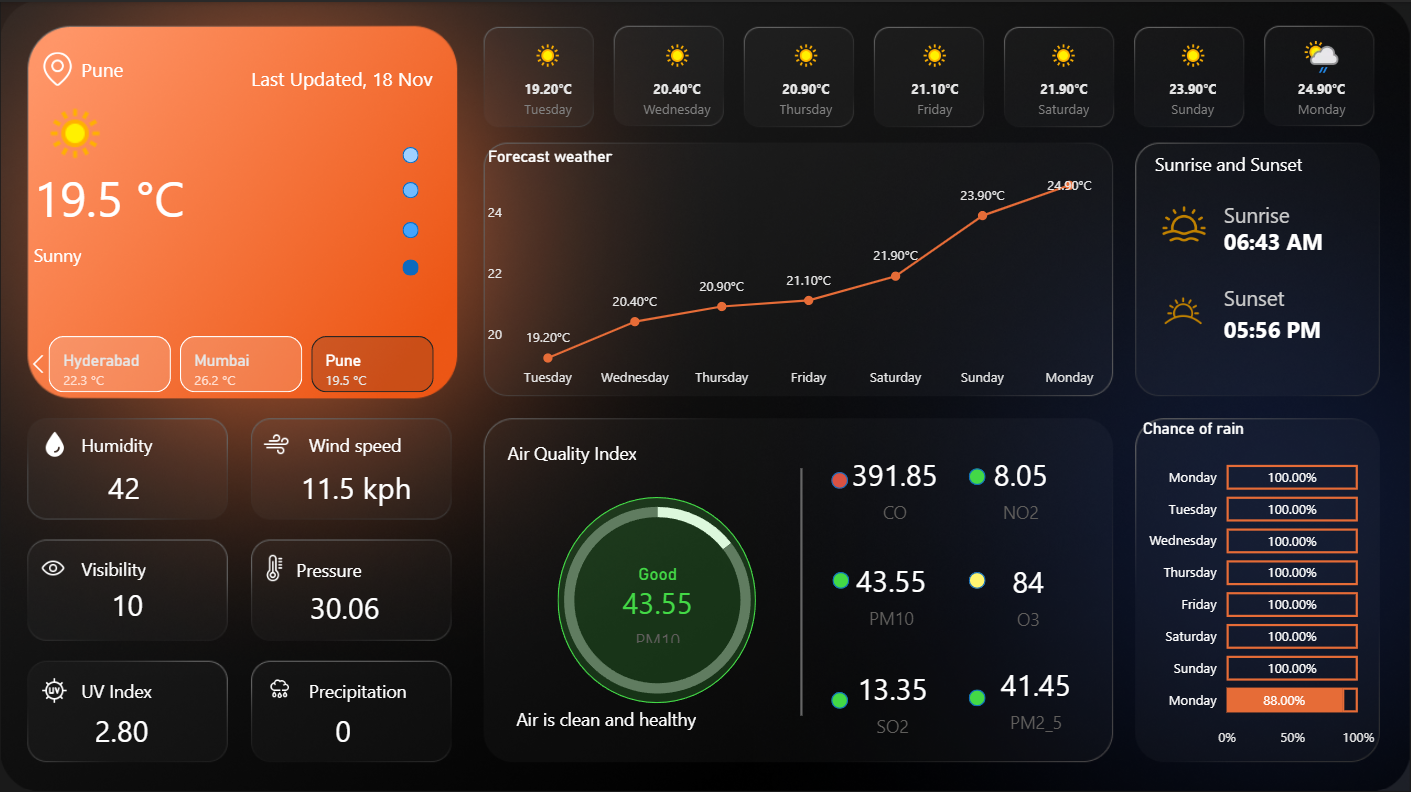

This screenshot's page, from the dashboard's own definition file:
{"tool":"powerbi","page":{"name":"Page 1","canvas":[1280,720],"ordinal":0},"visuals":[{"type":"donutChart","fields":{"Y":["Sum(Current.current.air_quality.pm10)","_measures.Left_Value_PM10"]},"box":[448.9,432.3,295.1,221.7],"z":0},{"type":"shape","box":[505.7,448.9,180.1,187.1],"z":1000},{"type":"advancedSlicerVisual","fields":{"Values":["Locations.location.name"]},"box":[19.2,297.8,399.3,61.7],"z":2000},{"type":"shape","box":[31,123.9,293.5,106.2],"z":3000},{"type":"shape","box":[31,206.5,293.5,45.7],"z":4000},{"type":"shape","box":[73.7,38.3,169.6,44.2],"z":5000},{"type":"shape","box":[73.7,491.2,169.6,45.7],"z":6000},{"type":"image","box":[31,41.3,42.8,39.8],"z":7000},{"type":"cardVisual","fields":{"Data":["Min(Current.current.condition.icon)"]},"box":[11.8,61.9,123.9,106.2],"z":8000},{"type":"image","box":[19.2,385,60.5,33.9],"z":9000},{"type":"shape","box":[228.3,45.4,169.6,45.7],"z":10000},{"type":"image","box":[11.8,497.1,73.7,33.9],"z":11000},{"type":"image","box":[218.3,497.1,61.9,33.9],"z":12000},{"type":"shape","box":[268.4,492.6,169.6,45.7],"z":13000},{"type":"image","box":[218.3,607.7,72.3,31],"z":14000},{"type":"image","box":[218.3,385,66.4,33.9],"z":15000},{"type":"image","box":[17.7,607.7,61.9,33.9],"z":16000},{"type":"shape","box":[73.7,379.1,169.6,45.7],"z":17000},{"type":"shape","box":[280.2,379.1,169.6,45.7],"z":18000},{"type":"shape","box":[280.2,601.8,169.6,45.7],"z":19000},{"type":"shape","box":[73.7,601.8,169.6,45.7],"z":20000},{"type":"card","fields":{"Values":["Sum(Current.current.humidity)"]},"box":[85.5,418.9,56,47.2],"z":21000},{"type":"card","fields":{"Values":["_measures.Wind_speed"]},"box":[267,418.9,113.6,47.2],"z":22000},{"type":"card","fields":{"Values":["Sum(Current.current.vis_km)"]},"box":[74.4,525.5,81.9,46.2],"z":23000},{"type":"card","fields":{"Values":["Sum(Current.current.pressure_in)"]},"box":[253.7,531,118,39.8],"z":24000},{"type":"card","fields":{"Values":["Sum(Current.current.uv)"]},"box":[73.7,638.7,73.7,47.2],"z":25000},{"type":"card","fields":{"Values":["Sum(Current.current.precip_in)"]},"box":[267,638.7,90,47.2],"z":26000},{"type":"lineChart","title":"Forecast weather","fields":{"Y":["Sum(Forcast_Day.forecast.forecastday.day.avgtemp_c)"],"Category":["Forcast_Day.Day_Name"]},"box":[437.5,131.8,569.3,227.2],"z":27000},{"type":"advancedSlicerVisual","fields":{"Values":["Forcast_Day.Day_Name"]},"box":[437.7,23.8,824.8,90.8],"z":28000},{"type":"shape","box":[1047.5,123.4,169.7,46.3],"z":29000},{"type":"shape","box":[1110.6,169.7,169.7,46.3],"z":30000},{"type":"shape","box":[1110.6,193.5,169.7,46.3],"z":31000},{"type":"shape","box":[1110.6,245.4,169.7,46.3],"z":32000},{"type":"shape","box":[1110.6,273.4,169.7,46.3],"z":33000},{"type":"image","box":[999.8,176.7,147.2,49.1],"z":34000},{"type":"image","box":[966.2,252.4,214.5,54.7],"z":35000},{"type":"hundredPercentStackedBarChart","title":"Chance of rain","fields":{"Y":["Sum(Forcast_Day.forecast.forecastday.day.daily_chance_of_rain)","_measures.Left_Value_rain"],"Category":["Forcast_Day.Day_Name"]},"box":[1032.1,378.6,220.2,307.1],"z":36000},{"type":"shape","box":[460,385.2,170.4,45.7],"z":37000},{"type":"card","fields":{"Values":["Sum(Current.current.air_quality.no2)"]},"box":[886.8,401.8,79,79],"z":38000},{"type":"card","fields":{"Values":["Sum(Current.current.air_quality.pm10)"]},"box":[766.2,498.8,84.5,76.2],"z":39000},{"type":"card","fields":{"Values":["Sum(Current.current.air_quality.o3)"]},"box":[886.8,501.6,92.8,73.4],"z":40000},{"type":"card","fields":{"Values":["Sum(Current.current.air_quality.so2)"]},"box":[767.6,593,84.5,84.5],"z":41000},{"type":"card","fields":{"Values":["Sum(Current.current.air_quality.pm2_5)"]},"box":[893.7,595.8,92.8,72.1],"z":42000},{"type":"card","fields":{"Values":["Sum(Current.current.air_quality.co)"]},"box":[767.6,401.8,88.7,79],"z":43000},{"type":"shape","box":[753.8,426.8,15.2,15.2],"z":44000},{"type":"shape","box":[753.8,626.3,15.2,15.2],"z":45000},{"type":"shape","box":[755.1,516.8,15.2,15.2],"z":46000},{"type":"shape","box":[878.5,422.6,15.2,15.2],"z":47000},{"type":"shape","box":[878.5,516.8,15.2,15.2],"z":48000},{"type":"shape","box":[878.5,623.5,15.2,15.2],"z":49000},{"type":"shape","box":[641.5,422.6,170.4,224.5],"z":50000},{"type":"card","fields":{"Values":["Sum(Current.current.air_quality.pm10)"]},"box":[554.2,509.9,84.5,76.2],"z":51000},{"type":"shape","box":[468.3,640.1,256.3,54],"z":52000},{"type":"shape","box":[365.2,131.6,14.7,14.7],"z":53000},{"type":"shape","box":[365.2,163.3,14.7,14.7],"z":54000},{"type":"shape","box":[365.2,199.6,14.7,14.7],"z":55000},{"type":"shape","box":[365.2,233.6,14.7,14.7],"z":56000}]}

Visuals, with their boxes in screenshot pixels (x1, y1, x2, y2), scaled from the page's 1280x720 canvas onto the 1411x792 screenshot:
donutChart - Sum(Current.current.air_quality.pm10) x _measures.Left_Value_PM10: x1=495, y1=476, x2=820, y2=719
shape: x1=557, y1=494, x2=756, y2=700
advancedSlicerVisual - Locations.location.name: x1=21, y1=328, x2=461, y2=395
shape: x1=34, y1=136, x2=358, y2=253
shape: x1=34, y1=227, x2=358, y2=277
shape: x1=81, y1=42, x2=268, y2=91
shape: x1=81, y1=540, x2=268, y2=591
image: x1=34, y1=45, x2=81, y2=89
cardVisual - Min(Current.current.condition.icon): x1=13, y1=68, x2=150, y2=185
image: x1=21, y1=424, x2=88, y2=461
shape: x1=252, y1=50, x2=439, y2=100
image: x1=13, y1=547, x2=94, y2=584
image: x1=241, y1=547, x2=309, y2=584
shape: x1=296, y1=542, x2=483, y2=592
image: x1=241, y1=668, x2=320, y2=703
image: x1=241, y1=424, x2=314, y2=461
image: x1=20, y1=668, x2=88, y2=706
shape: x1=81, y1=417, x2=268, y2=467
shape: x1=309, y1=417, x2=496, y2=467
shape: x1=309, y1=662, x2=496, y2=712
shape: x1=81, y1=662, x2=268, y2=712
card - Sum(Current.current.humidity): x1=94, y1=461, x2=156, y2=513
card - _measures.Wind_speed: x1=294, y1=461, x2=420, y2=513
card - Sum(Current.current.vis_km): x1=82, y1=578, x2=172, y2=629
card - Sum(Current.current.pressure_in): x1=280, y1=584, x2=410, y2=628
card - Sum(Current.current.uv): x1=81, y1=703, x2=162, y2=754
card - Sum(Current.current.precip_in): x1=294, y1=703, x2=394, y2=754
"Forecast weather" lineChart: x1=482, y1=145, x2=1110, y2=395
advancedSlicerVisual - Forcast_Day.Day_Name: x1=482, y1=26, x2=1392, y2=126
shape: x1=1155, y1=136, x2=1342, y2=187
shape: x1=1224, y1=187, x2=1410, y2=238
shape: x1=1224, y1=213, x2=1410, y2=264
shape: x1=1224, y1=270, x2=1410, y2=321
shape: x1=1224, y1=301, x2=1410, y2=352
image: x1=1102, y1=194, x2=1264, y2=248
image: x1=1065, y1=278, x2=1302, y2=338
"Chance of rain" hundredPercentStackedBarChart: x1=1138, y1=416, x2=1380, y2=754
shape: x1=507, y1=424, x2=695, y2=474
card - Sum(Current.current.air_quality.no2): x1=978, y1=442, x2=1065, y2=529
card - Sum(Current.current.air_quality.pm10): x1=845, y1=549, x2=938, y2=632
card - Sum(Current.current.air_quality.o3): x1=978, y1=552, x2=1080, y2=632
card - Sum(Current.current.air_quality.so2): x1=846, y1=652, x2=939, y2=745
card - Sum(Current.current.air_quality.pm2_5): x1=985, y1=655, x2=1087, y2=735
card - Sum(Current.current.air_quality.co): x1=846, y1=442, x2=944, y2=529
shape: x1=831, y1=469, x2=848, y2=486
shape: x1=831, y1=689, x2=848, y2=706
shape: x1=832, y1=568, x2=849, y2=585
shape: x1=968, y1=465, x2=985, y2=482
shape: x1=968, y1=568, x2=985, y2=585
shape: x1=968, y1=686, x2=985, y2=703
shape: x1=707, y1=465, x2=895, y2=712
card - Sum(Current.current.air_quality.pm10): x1=611, y1=561, x2=704, y2=645
shape: x1=516, y1=704, x2=799, y2=764
shape: x1=403, y1=145, x2=419, y2=161
shape: x1=403, y1=180, x2=419, y2=196
shape: x1=403, y1=220, x2=419, y2=236
shape: x1=403, y1=257, x2=419, y2=273
